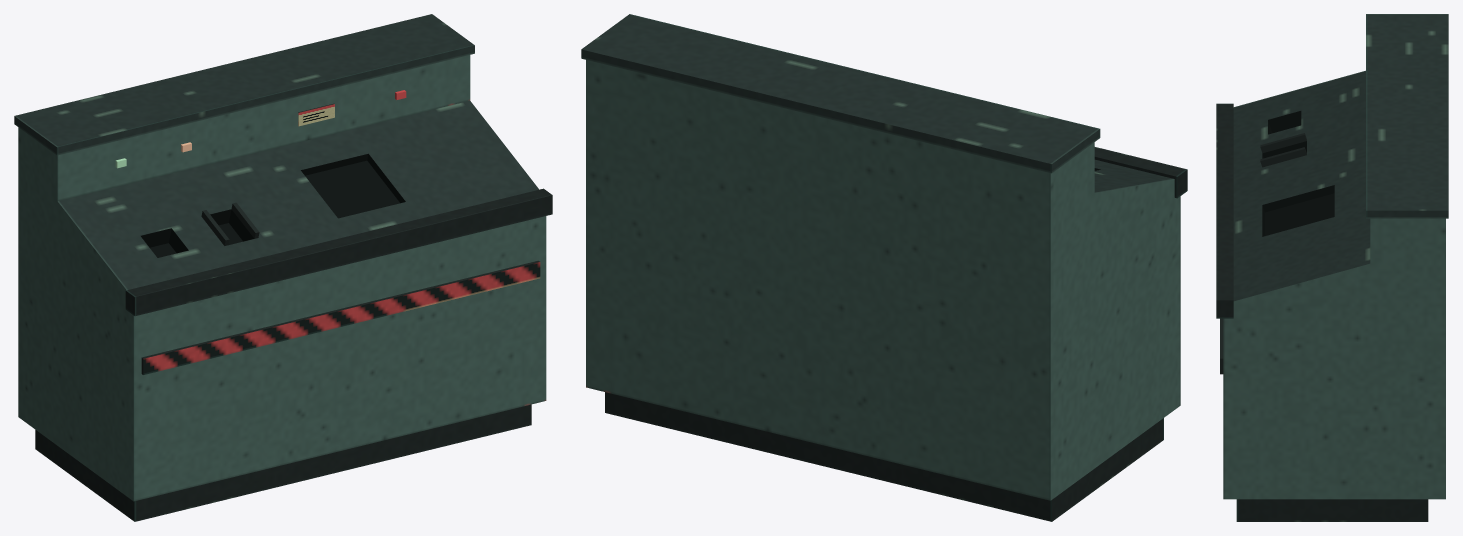
File: SM_LabPanel_Console_Run_160x80x120.fbx
3 views of the same model, side by side, from view 1: azimuth 30°, elevation 25°; view 2: azimuth 150°, elevation 25°; view 3: azimuth 270°, elevation 25° (orthographic). The views are drawn at different scales.
Parts seen in each view (by area): view 1: SM_LabPanel_Console_Run_160x80x120.001; view 2: SM_LabPanel_Console_Run_160x80x120.001; view 3: SM_LabPanel_Console_Run_160x80x120.001.
Part boxes in pixels (x1,y1,x2,y2): SM_LabPanel_Console_Run_160x80x120.001: (14,14,552,521); SM_LabPanel_Console_Run_160x80x120.001: (581,14,1187,521); SM_LabPanel_Console_Run_160x80x120.001: (1216,14,1448,521).
Size of the model in its own units: 1.6 by 1.2 by 0.8.
